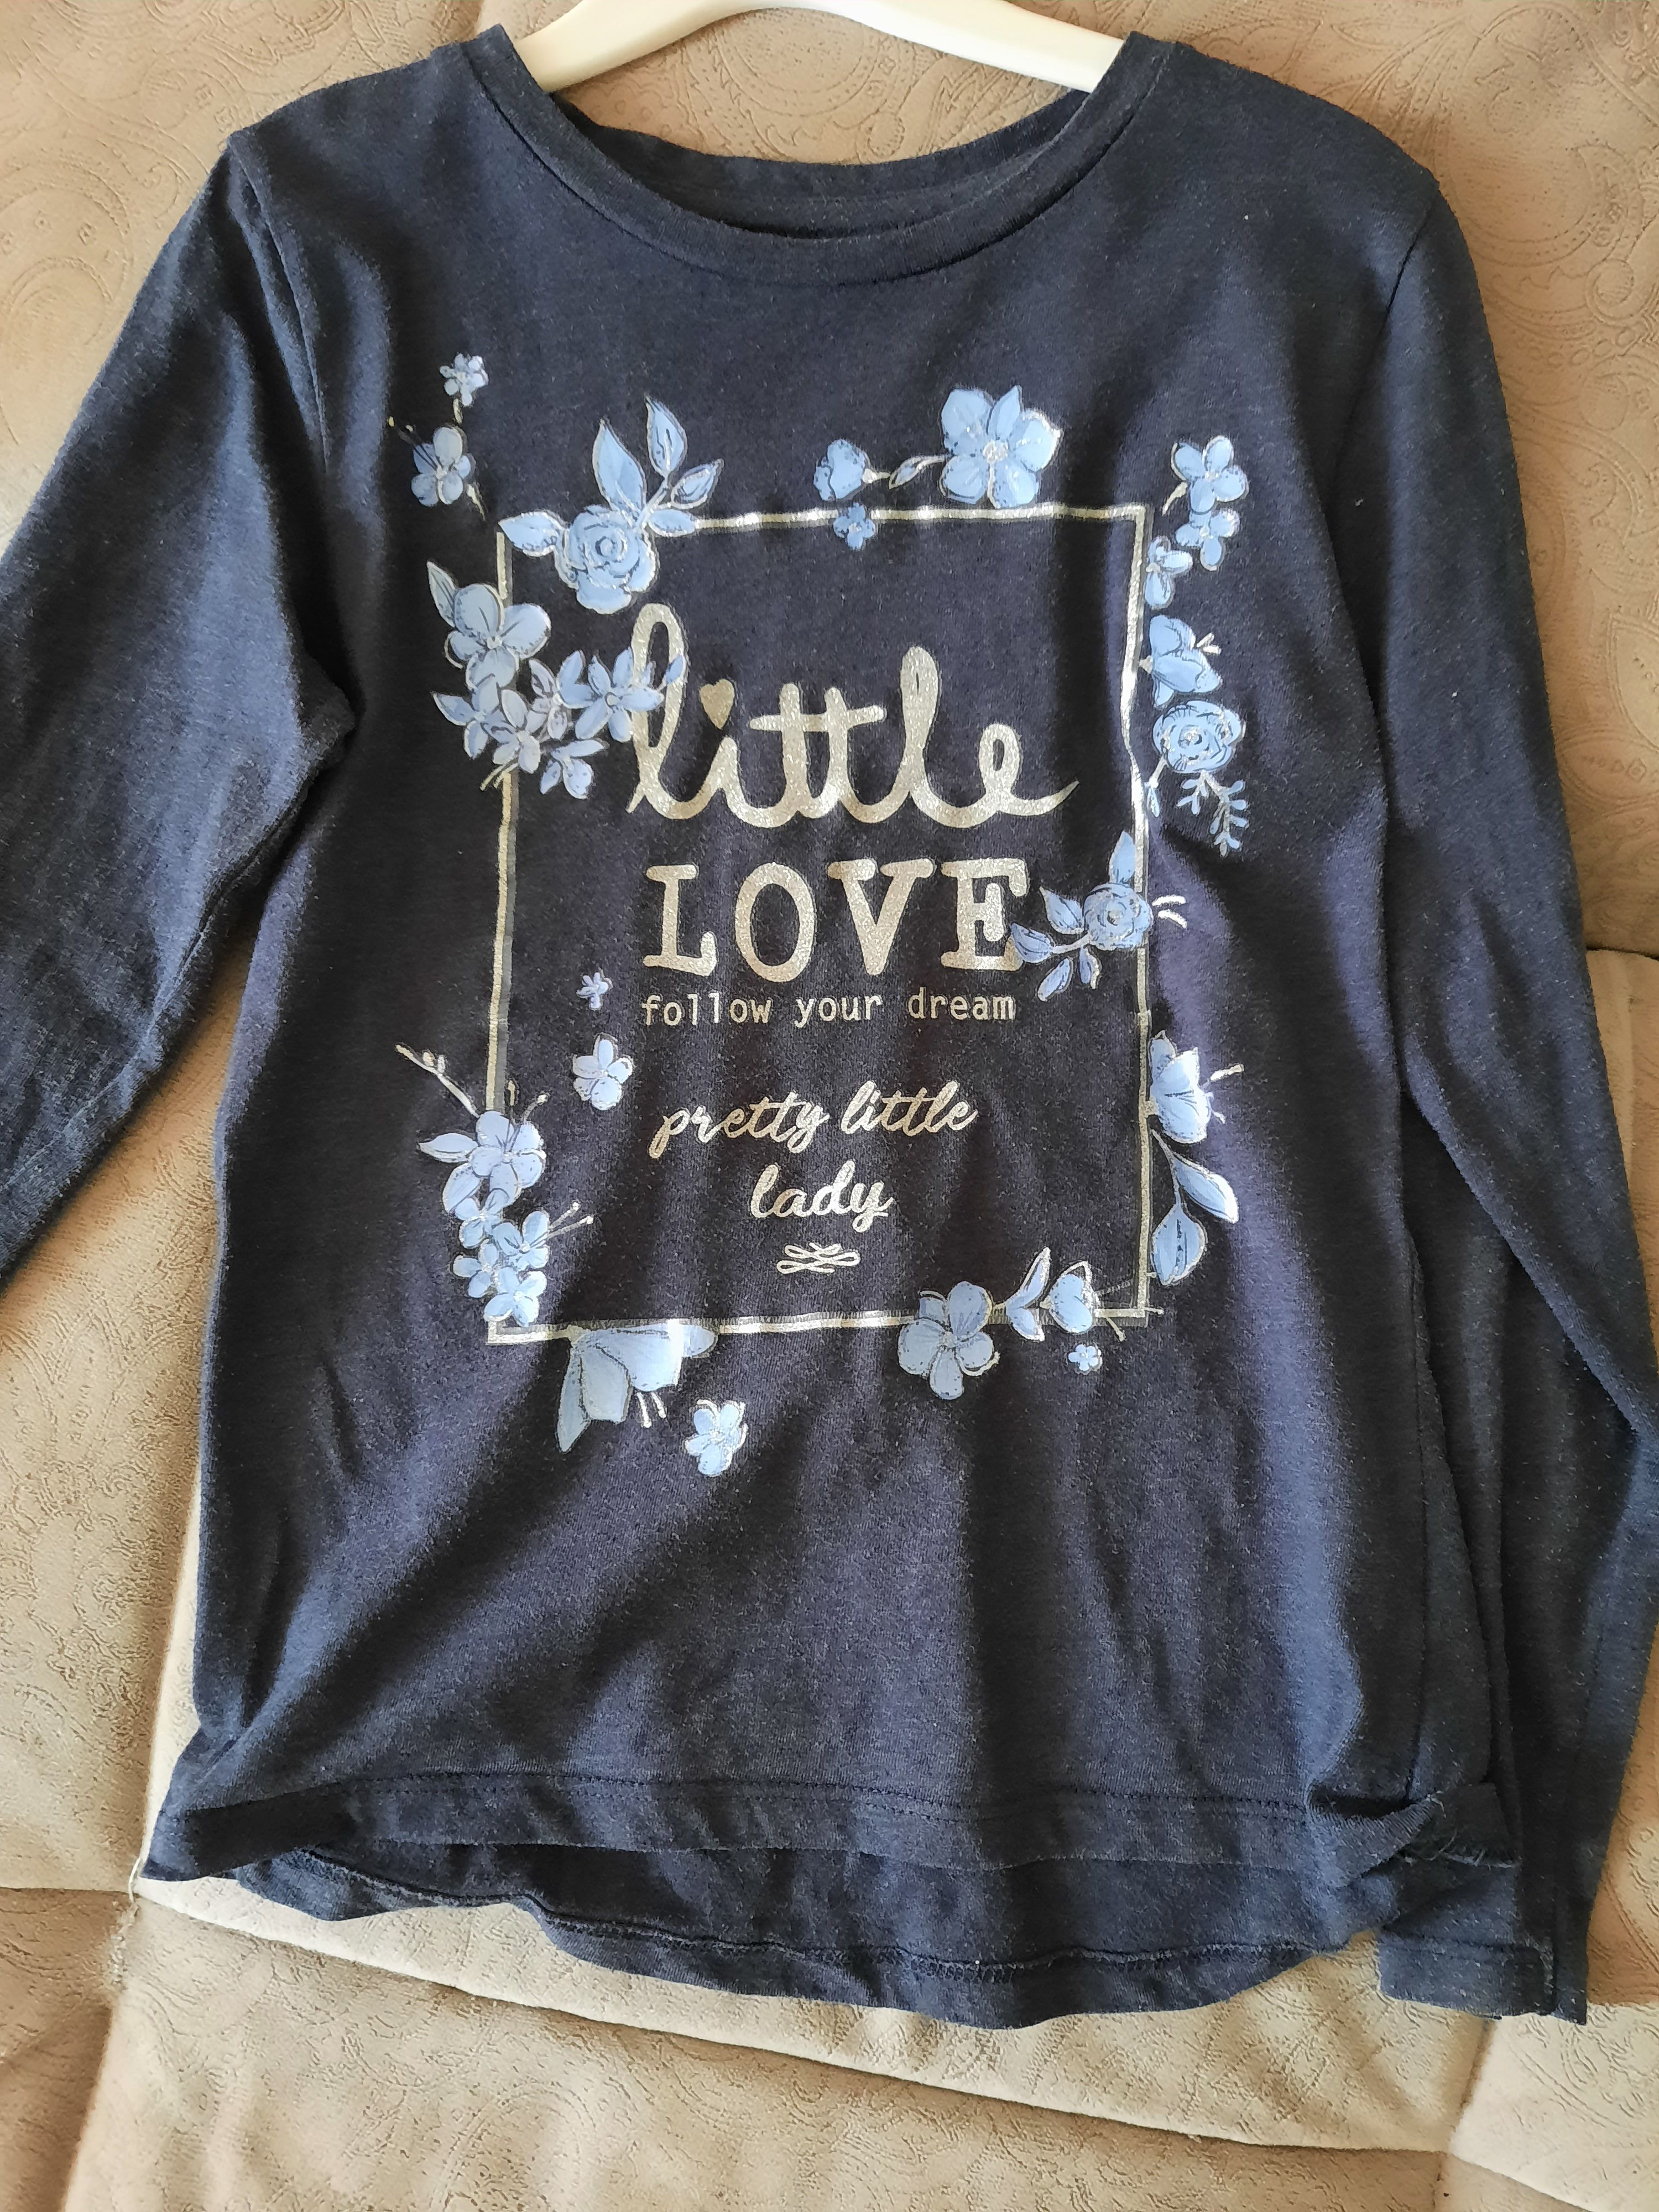clothes: (9, 45, 1649, 2045)
